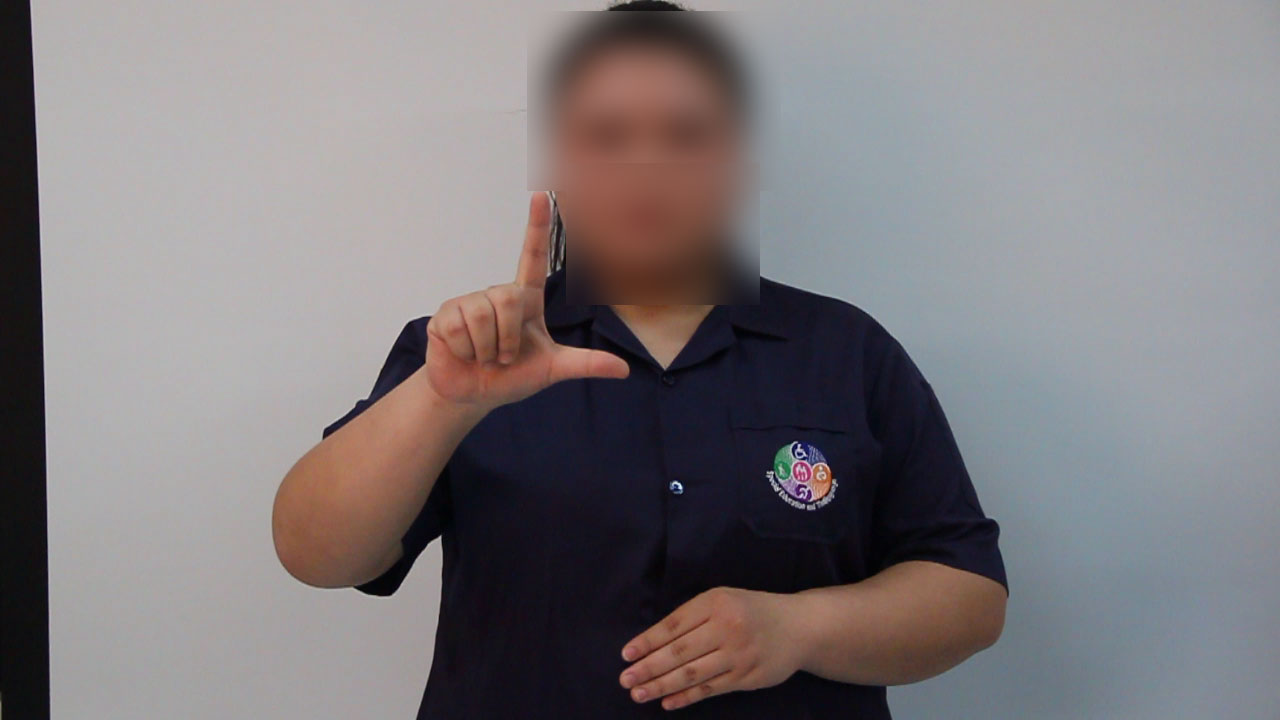lor: (400, 173, 644, 424)
